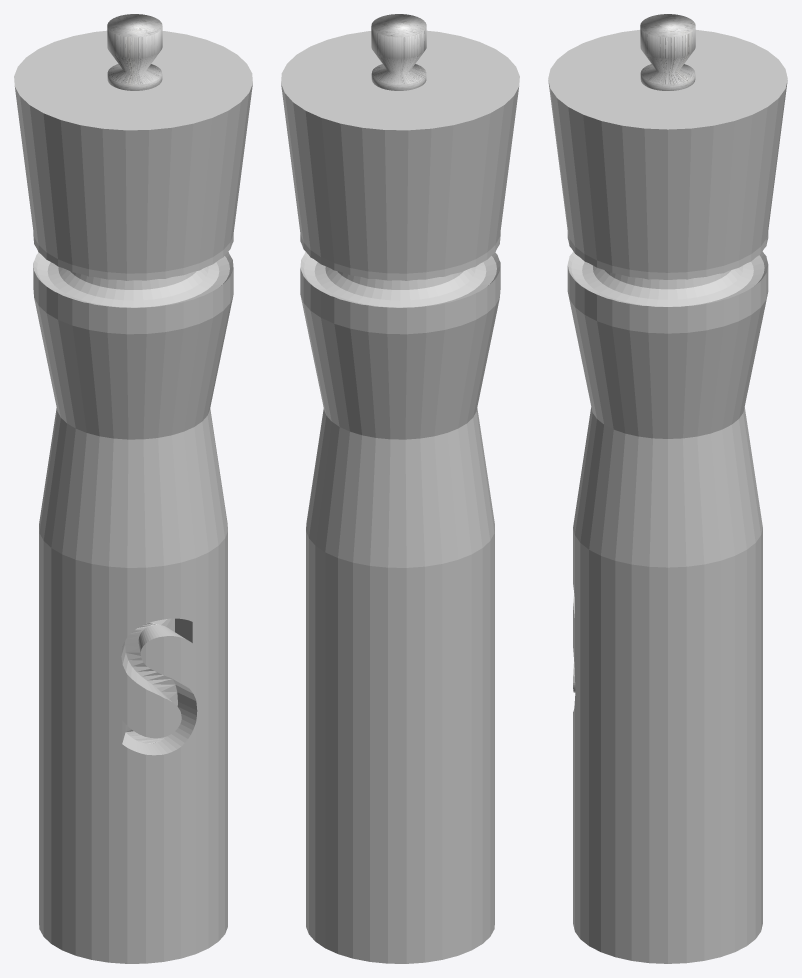
Rendered from Salt.gltf.
3 renders of one model, left to right at view 1: azimuth 30°, elevation 25°; view 2: azimuth 150°, elevation 25°; view 3: azimuth 270°, elevation 25°, orthographic.
Visible parts, largest first — view 1: Cylinder.001, Cylinder; view 2: Cylinder.001, Cylinder; view 3: Cylinder.001, Cylinder.
Boxes of the visible parts, x1,y1,x2,y2 form: Cylinder.001: (14,30,252,963); Cylinder: (107,14,162,90); Cylinder.001: (281,30,519,963); Cylinder: (371,14,426,90); Cylinder.001: (548,30,787,963); Cylinder: (640,14,695,90).
Bounding box in the file's own units: 2.53 × 10.45 × 2.53.
2 materials, 1 textured.
